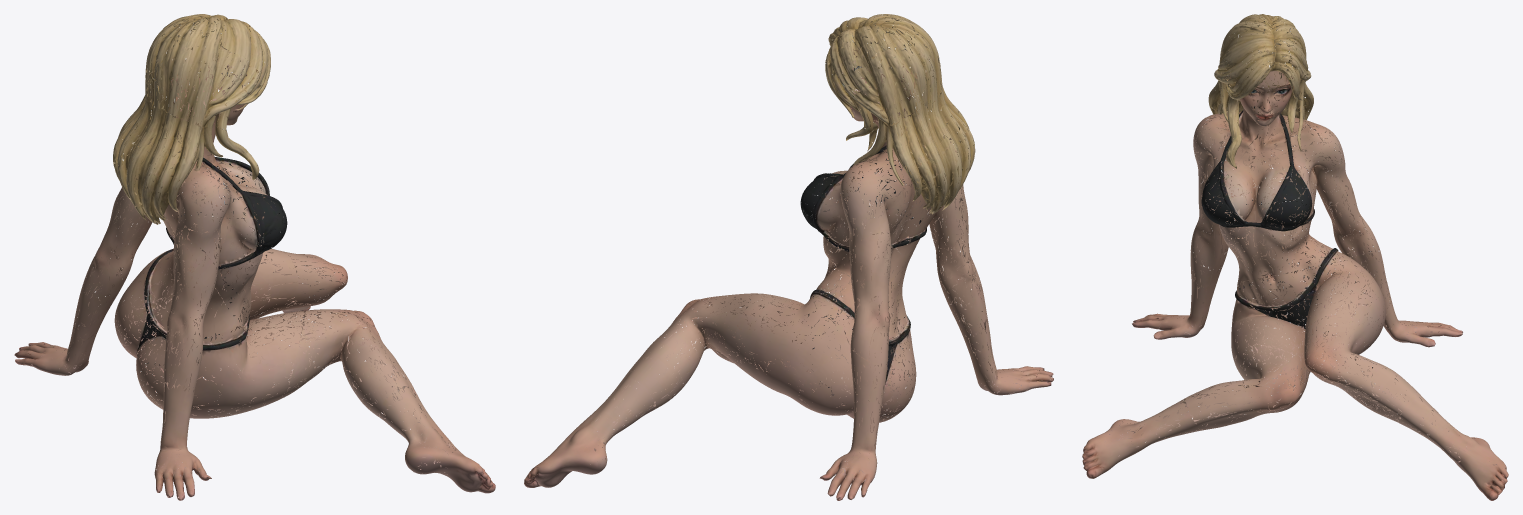
Rendered from blonde-woman-optimized.glb.
The picture shows the model from 3 angles, left to right: view 1: azimuth 30°, elevation 25°; view 2: azimuth 150°, elevation 25°; view 3: azimuth 270°, elevation 25°; orthographic projection. The views are drawn at different scales.
Visible parts, largest first — view 1: tripo_node_5f1c46cf; view 2: tripo_node_5f1c46cf; view 3: tripo_node_5f1c46cf.
Part boxes in pixels (x1,y1,x2,y2): tripo_node_5f1c46cf: (14,14,495,500); tripo_node_5f1c46cf: (524,14,1053,500); tripo_node_5f1c46cf: (1082,14,1508,500).
Size of the model in its own units: 0.7957 by 0.9698 by 0.9792.
1 material, 1 textured.
